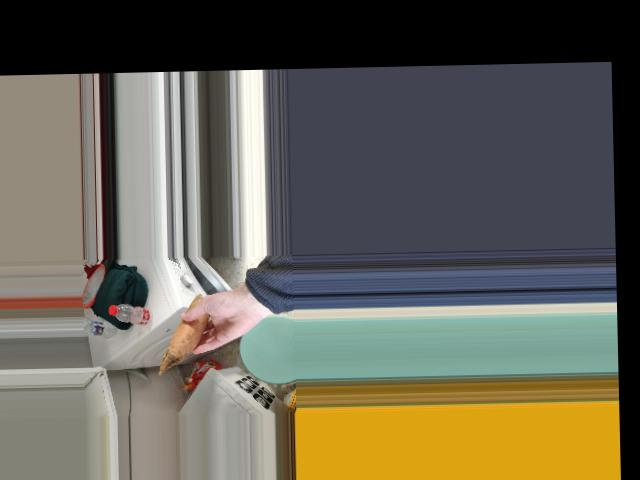sweet_potato: (169, 306, 208, 355)
